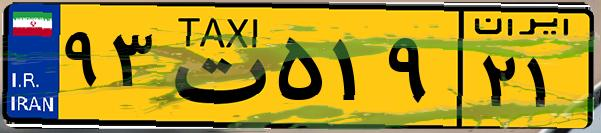1: (330, 28, 385, 110), (525, 38, 570, 115)
2: (475, 38, 525, 113)
3: (110, 28, 158, 98)
5: (270, 28, 330, 110)
9: (385, 28, 445, 110), (57, 26, 110, 100)
ت: (158, 12, 270, 120)
